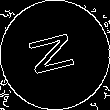N_E: (26, 30, 84, 80)
